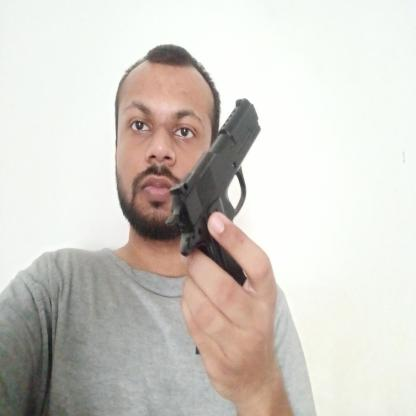handgun: (164, 94, 262, 287)
